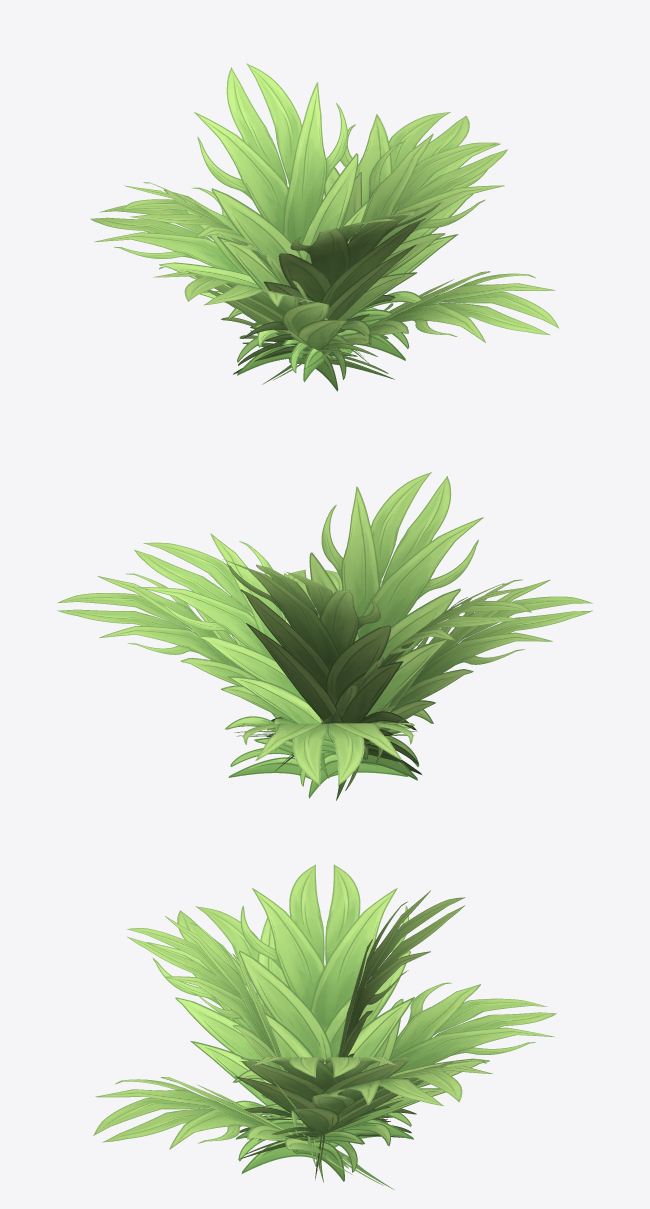
The model's file is TallGrass_FULL_Model.fbx.
The picture shows the model from 3 angles, top to bottom: view 1: azimuth 30°, elevation 25°; view 2: azimuth 150°, elevation 25°; view 3: azimuth 270°, elevation 25°; orthographic projection. The views are drawn at different scales.
Parts seen in each view (by area): view 1: LargeGrassPlane1 (×2), LargeGrassPlane4 (×2), LargeGrassPlane3 (×2), LargeGrassPlane2 (×2); view 2: LargeGrassPlane3 (×2), LargeGrassPlane1 (×2), LargeGrassPlane4 (×2), LargeGrassPlane2 (×2); view 3: LargeGrassPlane2 (×2), LargeGrassPlane3 (×2), LargeGrassPlane4 (×2), LargeGrassPlane1 (×2).
Boxes of the visible parts, x1,y1,x2,y2 form: LargeGrassPlane1 (×2): (193,63,500,375); LargeGrassPlane4 (×2): (250,133,559,391); LargeGrassPlane3 (×2): (153,202,445,379); LargeGrassPlane2 (×2): (90,182,376,382); LargeGrassPlane3 (×2): (267,472,592,800); LargeGrassPlane1 (×2): (57,559,421,778); LargeGrassPlane4 (×2): (134,533,410,798); LargeGrassPlane2 (×2): (234,583,531,785); LargeGrassPlane2 (×2): (232,864,556,1181); LargeGrassPlane3 (×2): (127,906,387,1182); LargeGrassPlane4 (×2): (93,1057,416,1189); LargeGrassPlane1 (×2): (238,890,492,1180).
Bounding box in the file's own units: 110 × 52.36 × 108.
